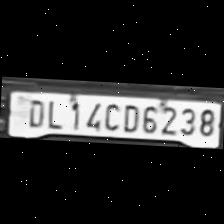1: (63, 96, 81, 128)
2: (156, 102, 178, 134)
3: (175, 103, 196, 135)
4: (82, 97, 102, 128)
6: (138, 100, 158, 132)
8: (194, 104, 216, 136)
C: (100, 98, 119, 130)
D: (21, 96, 45, 127), (120, 101, 140, 131)
L: (44, 94, 64, 128)
